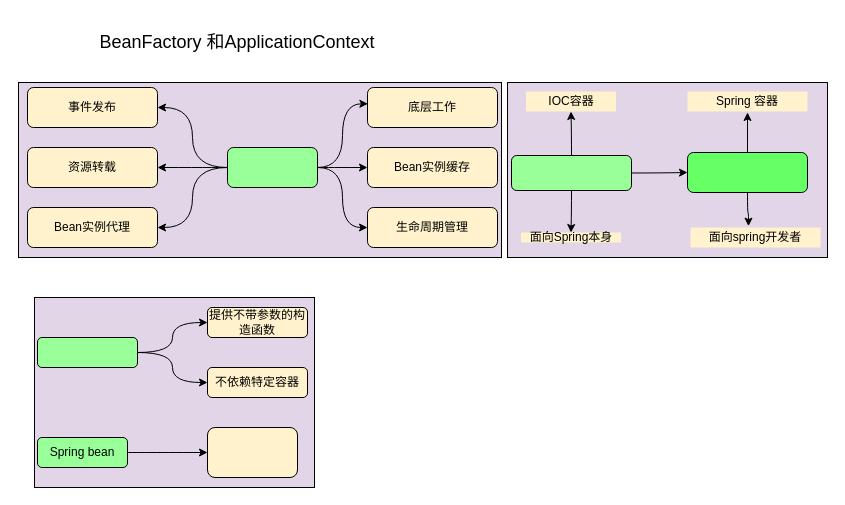
The diagram is 845 pixels wide and 505 high, and some of its shapes have lost their labels. The centre of each missing label's shape, as x and y in pixels:
"ApplicationContext" goes at point 747,172.
"BeanFactory" goes at point 571,172.
"IOC 容器功能" goes at point 272,167.
"JavaBean" goes at point 87,352.
"被Spring容器实例化并管理的java类" goes at point 252,452.
